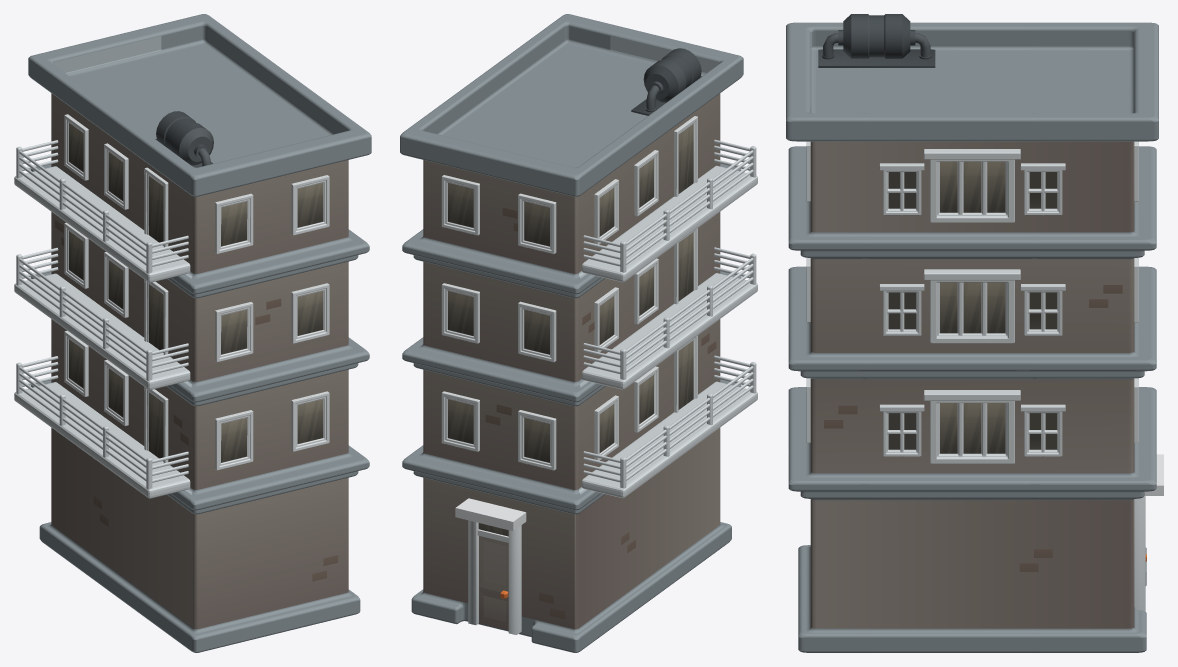
The model's file is marron nuevo blacon.fbx.
3 views of the same model, side by side, from view 1: azimuth 30°, elevation 25°; view 2: azimuth 150°, elevation 25°; view 3: azimuth 270°, elevation 25° (orthographic). The views are drawn at different scales.
Visible parts, largest first — view 1: Cube.012; view 2: Cube.012; view 3: Cube.012.
Boxes of the visible parts, left/top/right/bottom form: Cube.012: left=14, top=14, right=371, bottom=652; Cube.012: left=400, top=14, right=757, bottom=652; Cube.012: left=786, top=14, right=1163, bottom=652.
Bounding box in the file's own units: 1214 × 2792 × 1703.
6 materials, 6 textured.
